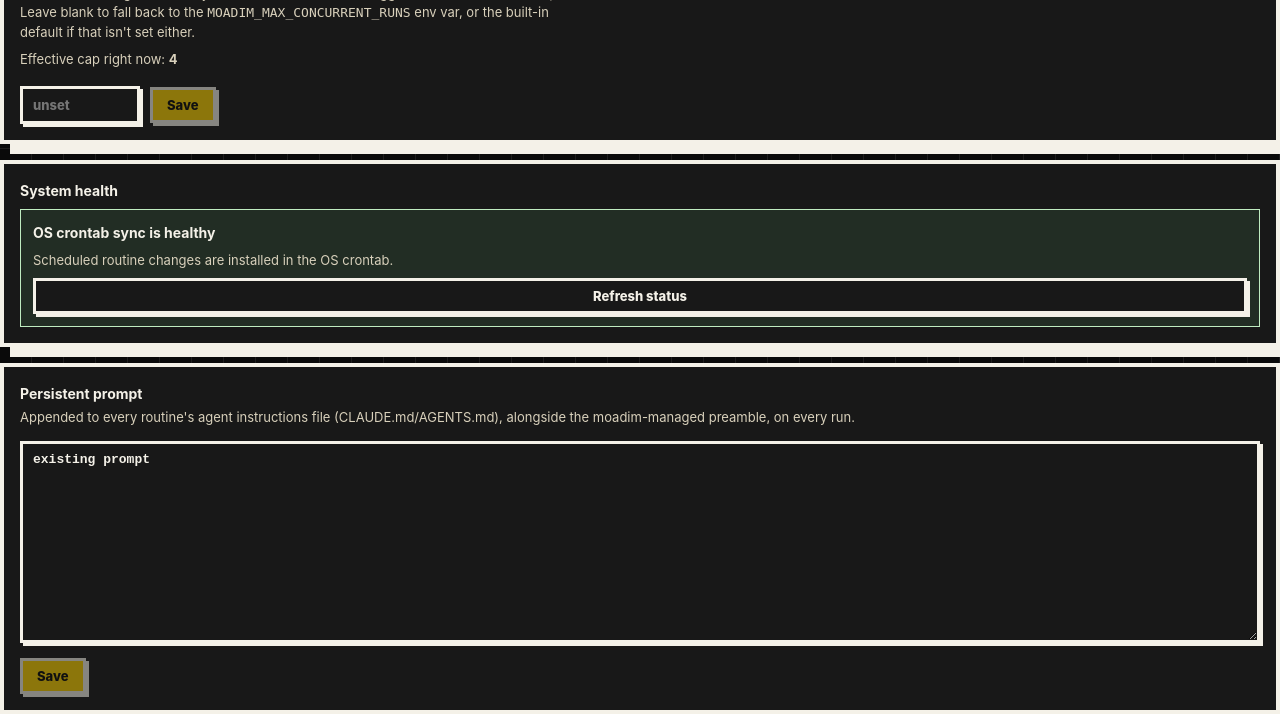
Test: SettingsPage › marks the draft dirty and enables save once edited
(page scrolled)
Replace the text in the text box with placeholder "e.g. always run `cargo fmt` before finishing a task" with "existing prompt, edited". click: (640, 542)
box: [20,441,1260,643]
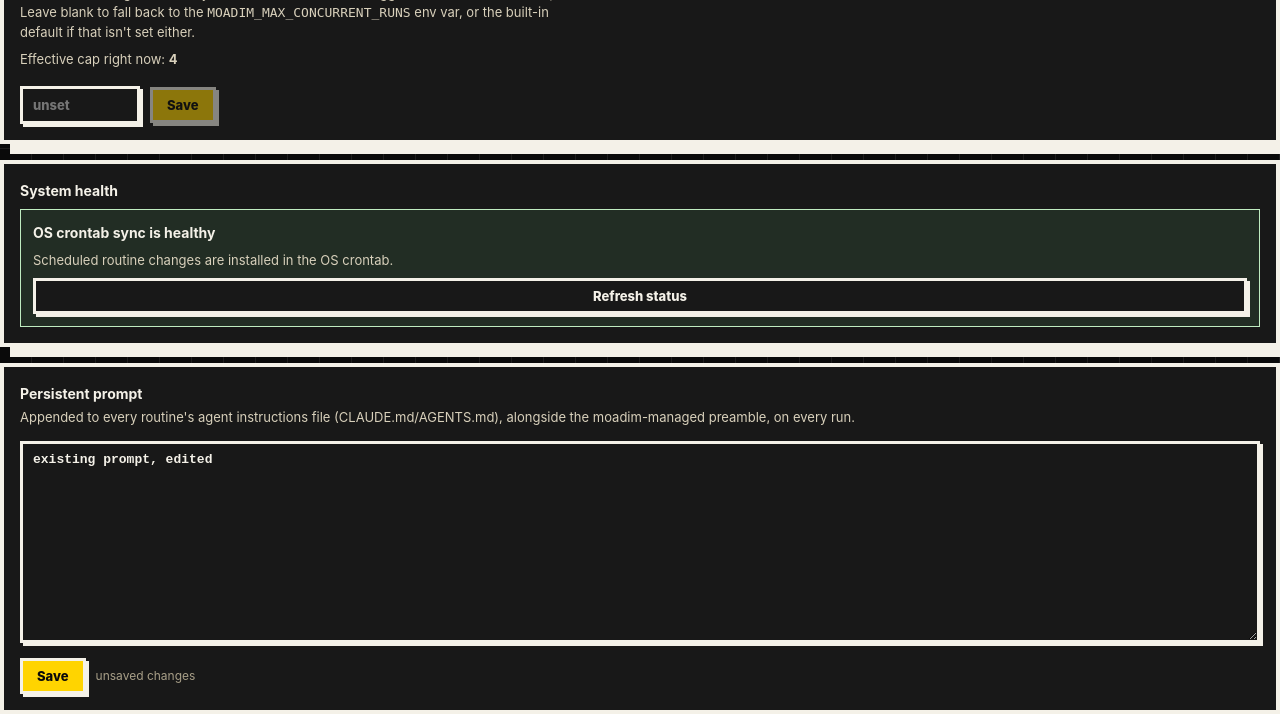
Expected: the button "Save" next to "unsaved changes" is enabled, [20,658,86,694]
Expected: the text "unsaved changes" is shown, [96,667,195,685]
